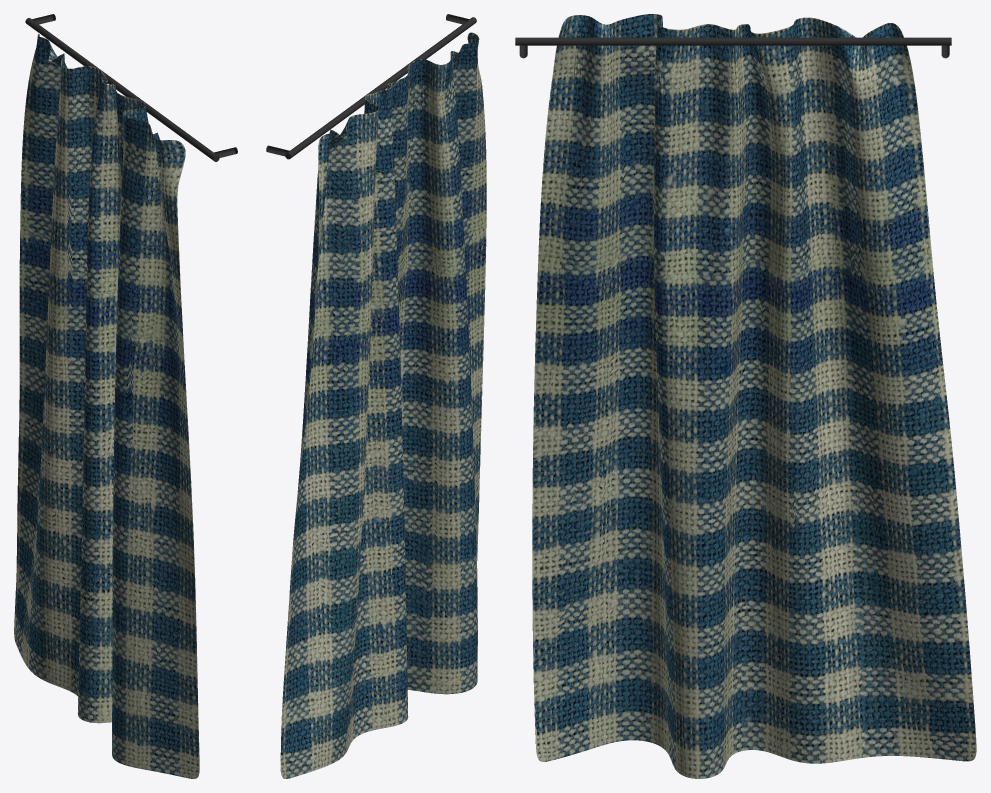
File: Curtain_2x3.fbx
3 views of the same model, side by side, from view 1: azimuth 30°, elevation 25°; view 2: azimuth 150°, elevation 25°; view 3: azimuth 270°, elevation 25° (orthographic). The views are drawn at different scales.
Visible parts, largest first — view 1: Curtain_LOD0, Pipe; view 2: Curtain_LOD0, Pipe; view 3: Curtain_LOD0, Pipe.
Boxes of the visible parts, x1,y1,x2,y2 form: Curtain_LOD0: (14,34,199,778); Pipe: (25,14,237,161); Curtain_LOD0: (280,32,486,778); Pipe: (266,14,476,159); Curtain_LOD0: (532,14,976,778); Pipe: (515,37,951,58).
Size of what is drawn, in the model's own units: 33.66 by 280 by 159.
